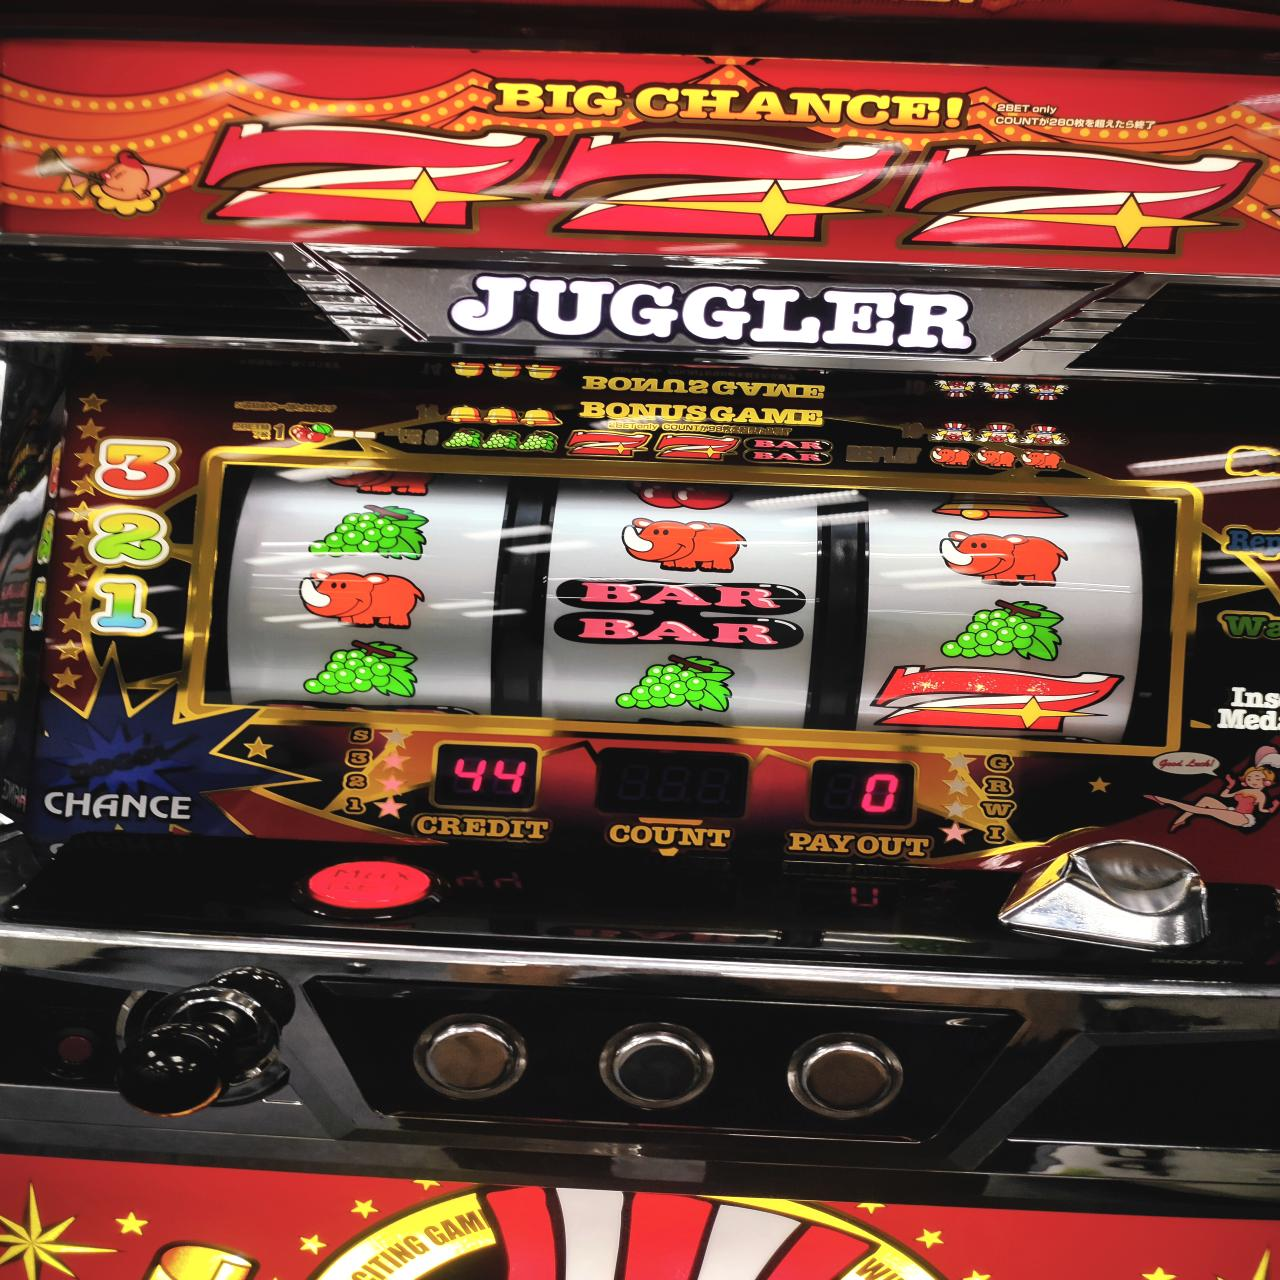7: (873, 666, 1126, 740)
8: (938, 530, 1068, 587), (619, 515, 750, 570), (298, 572, 424, 628)
Display: (213, 461, 1165, 747)
bar: (559, 579, 809, 653)
grape: (937, 598, 1063, 663), (306, 501, 434, 563), (305, 640, 423, 699), (619, 654, 735, 714)
